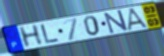0: (83, 15, 101, 37)
7: (62, 17, 78, 41)
A: (126, 7, 151, 32)
H: (17, 23, 45, 49)
L: (39, 23, 61, 45)
N: (103, 9, 130, 35)
